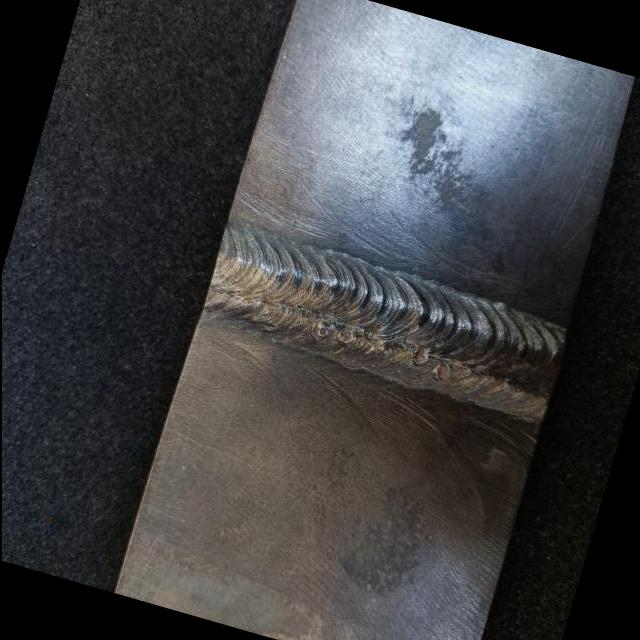defect: (336, 323, 354, 349), (312, 319, 330, 344), (434, 360, 451, 382), (411, 347, 428, 368), (380, 345, 389, 356)
